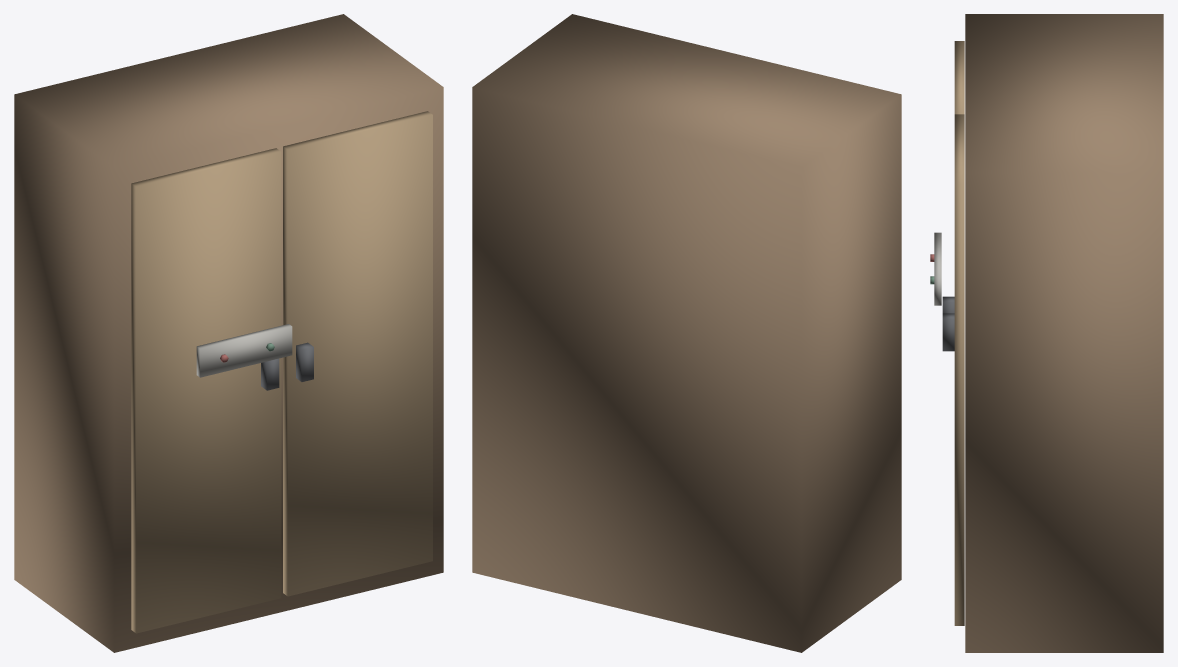
The model's file is typesetter_drawer_cabinet__reinforced.glb.
3 views of the same model, side by side, from view 1: azimuth 30°, elevation 25°; view 2: azimuth 150°, elevation 25°; view 3: azimuth 270°, elevation 25° (orthographic).
Parts seen in each view (by area): view 1: world; view 2: world; view 3: world.
Part boxes in pixels (x1,y1,x2,y2): world: [14, 14, 443, 652]; world: [472, 14, 901, 652]; world: [930, 14, 1163, 652].
Size of the model in its own units: 0.9785 by 1.38 by 0.6062.
